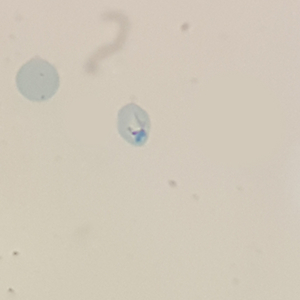erythrocyte: (114, 101, 152, 149)
punctate reticulocyte: (13, 54, 61, 104)
